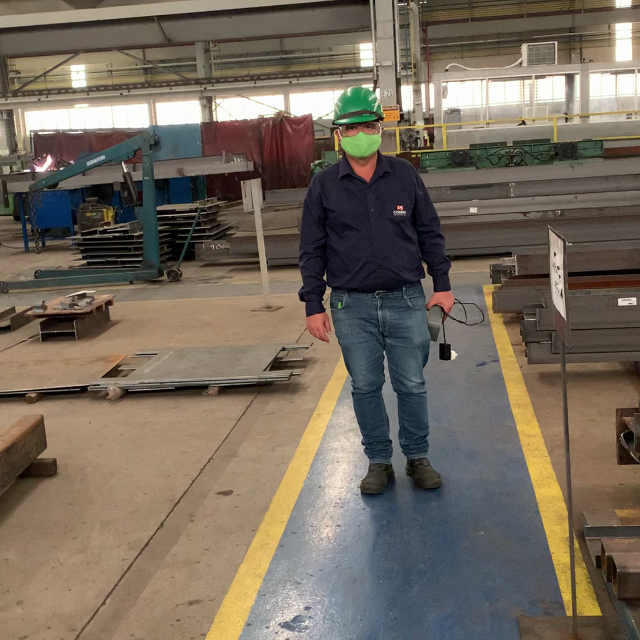eye-glass: (337, 122, 382, 134)
helmet: (336, 88, 385, 121)
mask: (338, 131, 383, 157)
safety-shoe: (405, 454, 444, 493), (361, 461, 398, 496)
